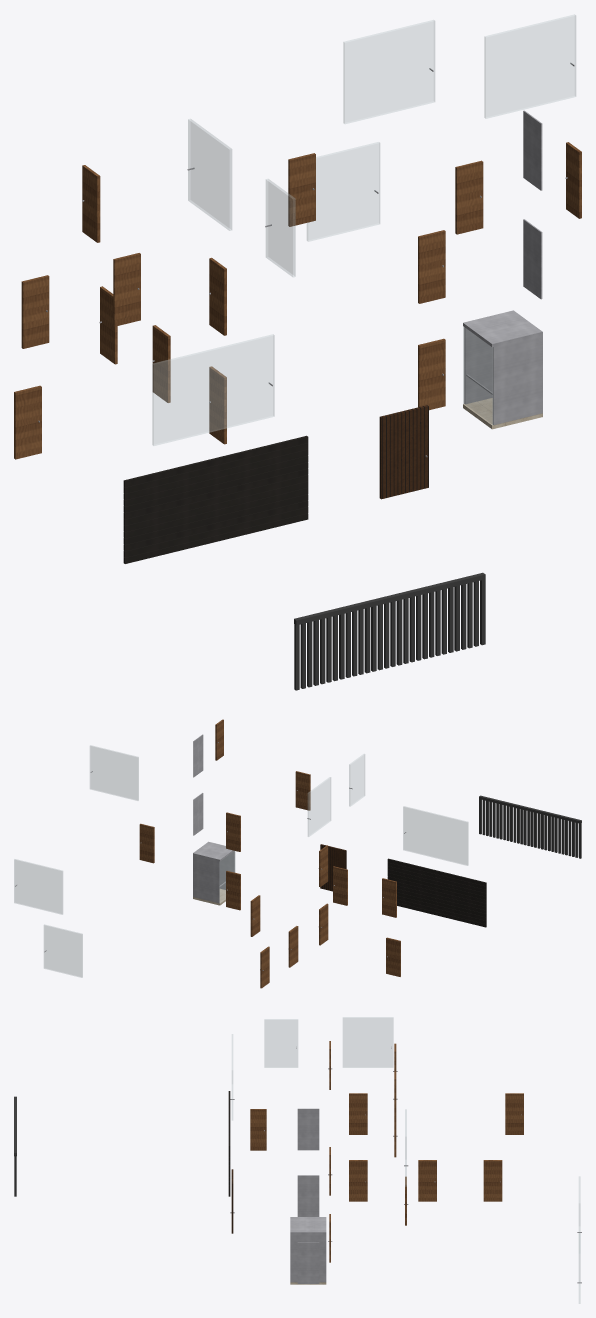
Rendered from LuxuryVilla_Doors.fbx.
3 views of the same model, one above another, from view 1: azimuth 30°, elevation 25°; view 2: azimuth 150°, elevation 25°; view 3: azimuth 270°, elevation 25° (orthographic). The views are drawn at different scales.
Visible parts, largest first — view 1: GarageDoor, FrontGate, Door_FrontBalcony, Elevator_Cab, Door_RearBalcony, Door_SkyTerrace, Door_Terrace, Door_Entrance, Door_GymTerrace, Door_MediaTerrace, Door_BedroomB, Door_Wardrobe (+11 smaller); view 2: GarageDoor, FrontGate, Door_FrontBalcony, Door_SkyTerrace, Door_RearBalcony, Elevator_Cab, Door_Terrace, Door_GymTerrace, Door_MediaTerrace, Door_Media, Door_BedroomB, Door_Entrance (+10 smaller); view 3: Door_GymTerrace, Door_MediaTerrace, Elevator_Cab, Door_GuestBedroom, Door_BedroomA, Door_GarageHall, Door_GuestBathroom, Door_Master, Door_PowderRoom, Elevator_Door_F2_L, Elevator_Door_F0_L, Elevator_Door_F1_L (+3 smaller).
Boxes of the visible parts, x1=… form: GarageDoor: x1=123, y1=435, x2=308, y2=563; FrontGate: x1=294, y1=572, x2=485, y2=690; Door_FrontBalcony: x1=152, y1=334, x2=274, y2=445; Elevator_Cab: x1=463, y1=310, x2=542, y2=429; Door_RearBalcony: x1=343, y1=20, x2=434, y2=123; Door_SkyTerrace: x1=484, y1=14, x2=575, y2=118; Door_Terrace: x1=307, y1=142, x2=379, y2=241; Door_Entrance: x1=379, y1=405, x2=428, y2=499; Door_GymTerrace: x1=187, y1=119, x2=231, y2=230; Door_MediaTerrace: x1=265, y1=179, x2=295, y2=277; Door_BedroomB: x1=455, y1=160, x2=483, y2=234; Door_Wardrobe: x1=21, y1=275, x2=49, y2=348; GarageDoor: x1=387, y1=858, x2=486, y2=927; FrontGate: x1=479, y1=795, x2=581, y2=858; Door_FrontBalcony: x1=403, y1=806, x2=468, y2=865; Door_SkyTerrace: x1=90, y1=745, x2=138, y2=800; Door_RearBalcony: x1=14, y1=859, x2=62, y2=914; Elevator_Cab: x1=193, y1=841, x2=235, y2=905; Door_Terrace: x1=44, y1=924, x2=82, y2=977; Door_GymTerrace: x1=307, y1=777, x2=330, y2=836; Door_MediaTerrace: x1=349, y1=754, x2=364, y2=806; Door_Media: x1=295, y1=771, x2=310, y2=810; Door_BedroomB: x1=139, y1=823, x2=154, y2=863; Door_Entrance: x1=320, y1=844, x2=346, y2=891; Door_GymTerrace: x1=343, y1=1017, x2=393, y2=1067; Door_MediaTerrace: x1=264, y1=1019, x2=297, y2=1067; Elevator_Cab: x1=290, y1=1217, x2=326, y2=1284; Door_GuestBedroom: x1=483, y1=1160, x2=502, y2=1201; Door_BedroomA: x1=505, y1=1093, x2=523, y2=1134; Door_GarageHall: x1=349, y1=1160, x2=367, y2=1201; Door_GuestBathroom: x1=418, y1=1160, x2=436, y2=1201; Door_Master: x1=349, y1=1093, x2=367, y2=1134; Door_PowderRoom: x1=250, y1=1109, x2=266, y2=1150; Elevator_Door_F2_L: x1=297, y1=1108, x2=308, y2=1150; Elevator_Door_F0_L: x1=297, y1=1242, x2=308, y2=1283; Elevator_Door_F1_L: x1=297, y1=1175, x2=308, y2=1216.
Bounding box in the file's own units: 19.58 × 9.47 × 26.17.
Materials: 8 (5 with a texture image).
